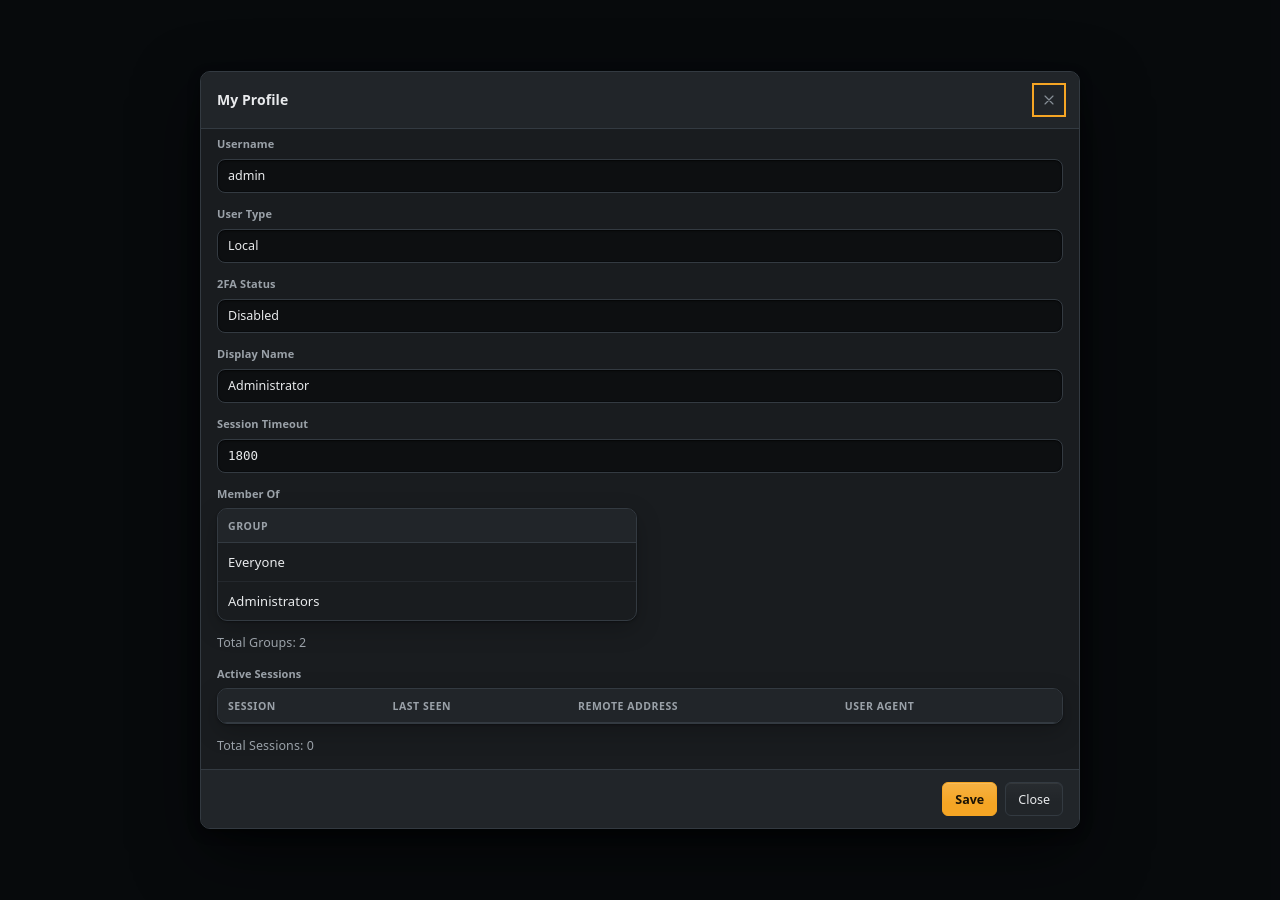
Test: My Profile › a failed save keeps the modal open with the alert inside it
Expected: the field showing "Administrator" is shown, [217,369,1063,403]
Step 1. Click the button "Save" → (970, 799), box [942,782,997,816]
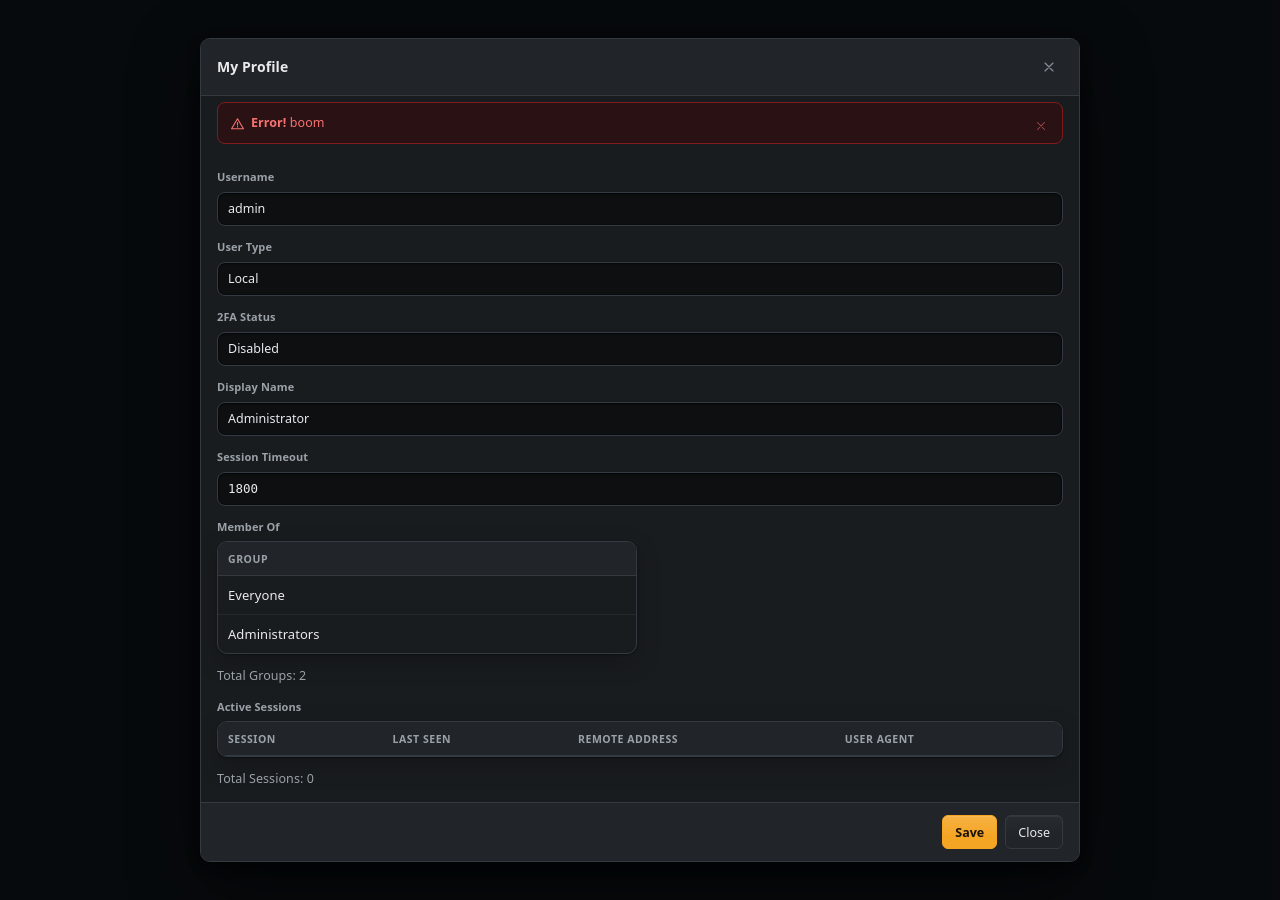
Expected: the text "boom" is shown, [290,114,325,130]
